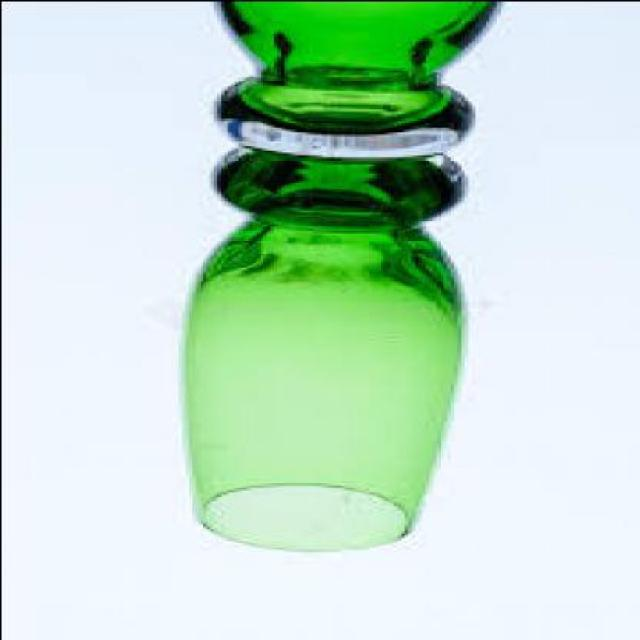GLASS: (180, 2, 495, 553)
